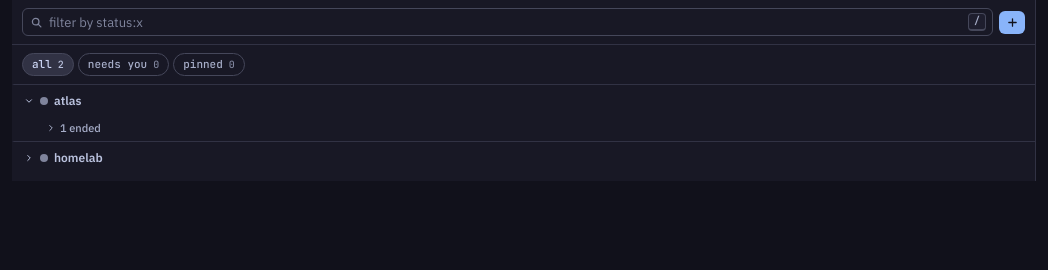
each agent keeps its own ended section open state
The image size is (1048, 270).
Step 1. Click the button named "homelab" → (26, 158), box [14,142,38,174]
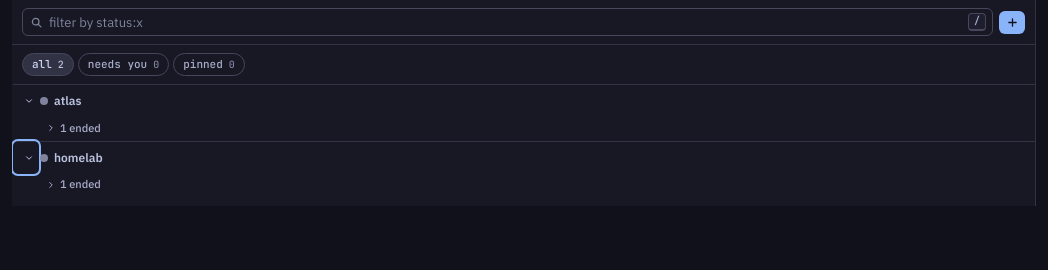
Step 2. Click the 1st button "1 ended" → (80, 128), box [12,117,1035,141]
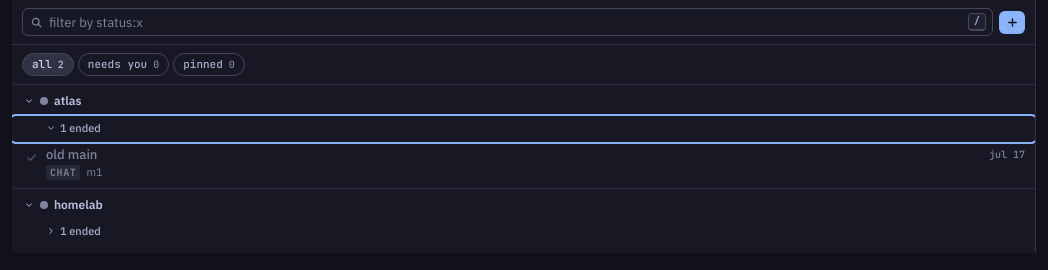
Now the text "old main" is shown, box [46,146,97,163]
